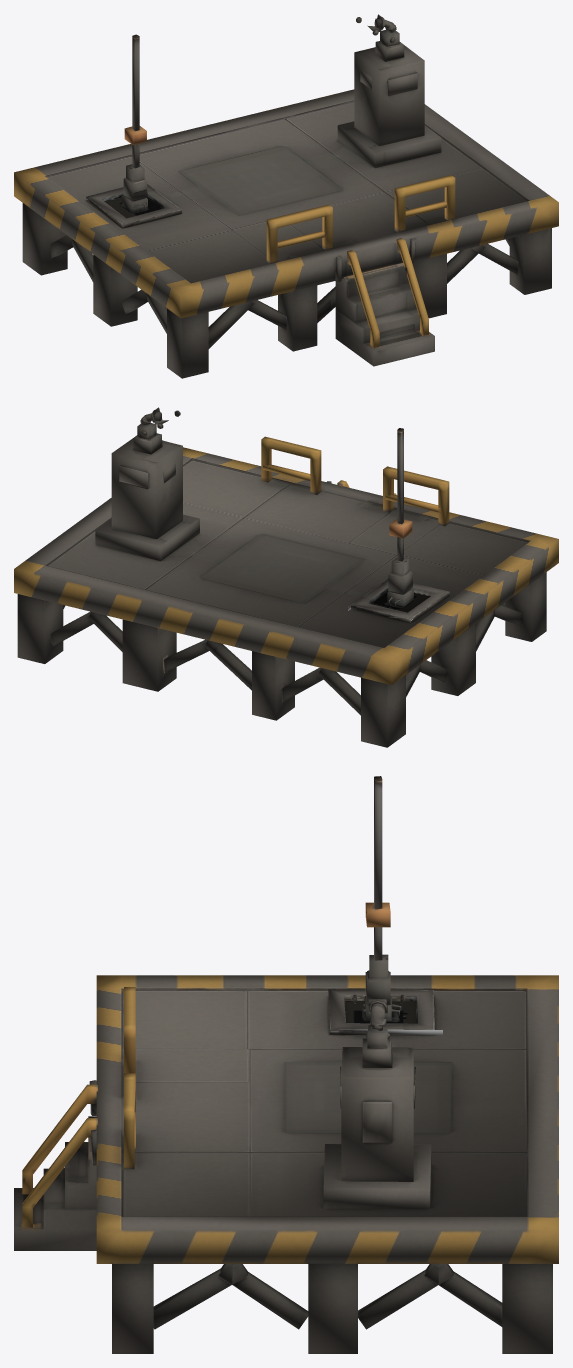
The model's file is base_oil.glb.
3 views of the same model, one above another, from view 1: azimuth 30°, elevation 25°; view 2: azimuth 150°, elevation 25°; view 3: azimuth 270°, elevation 25° (orthographic). The views are drawn at different scales.
Parts seen in each view (by area): view 1: base_oil; view 2: base_oil; view 3: base_oil.
Boxes of the visible parts, left/top/right/bottom form: base_oil: left=14, top=14, right=558, bottom=378; base_oil: left=14, top=407, right=558, bottom=747; base_oil: left=14, top=776, right=558, bottom=1353.
Bounding box in the file's own units: 4.99 × 3.28 × 4.5.
2 materials, 1 textured.
